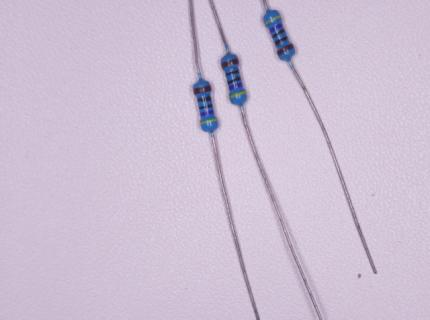Violet band: (270, 23, 283, 34), (229, 82, 243, 90), (201, 110, 214, 117)
Yellow band: (264, 15, 281, 26), (200, 118, 217, 125), (230, 91, 246, 98)
